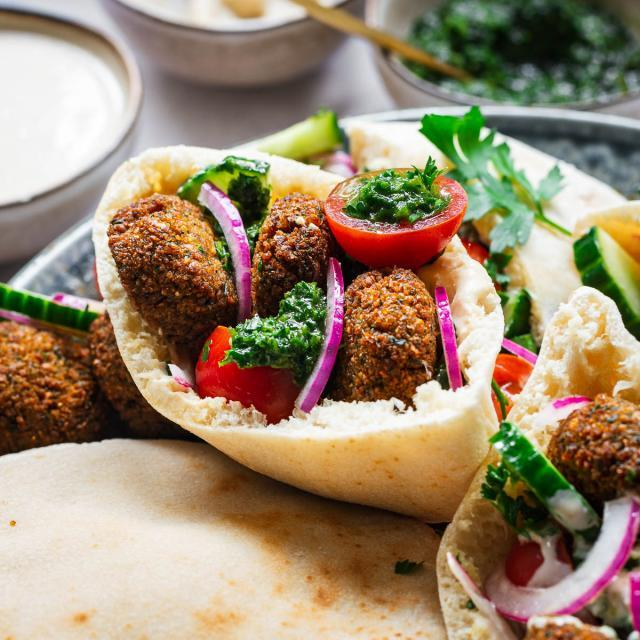flafel: (109, 191, 237, 338), (2, 319, 98, 468), (341, 267, 430, 417), (254, 195, 326, 319)
